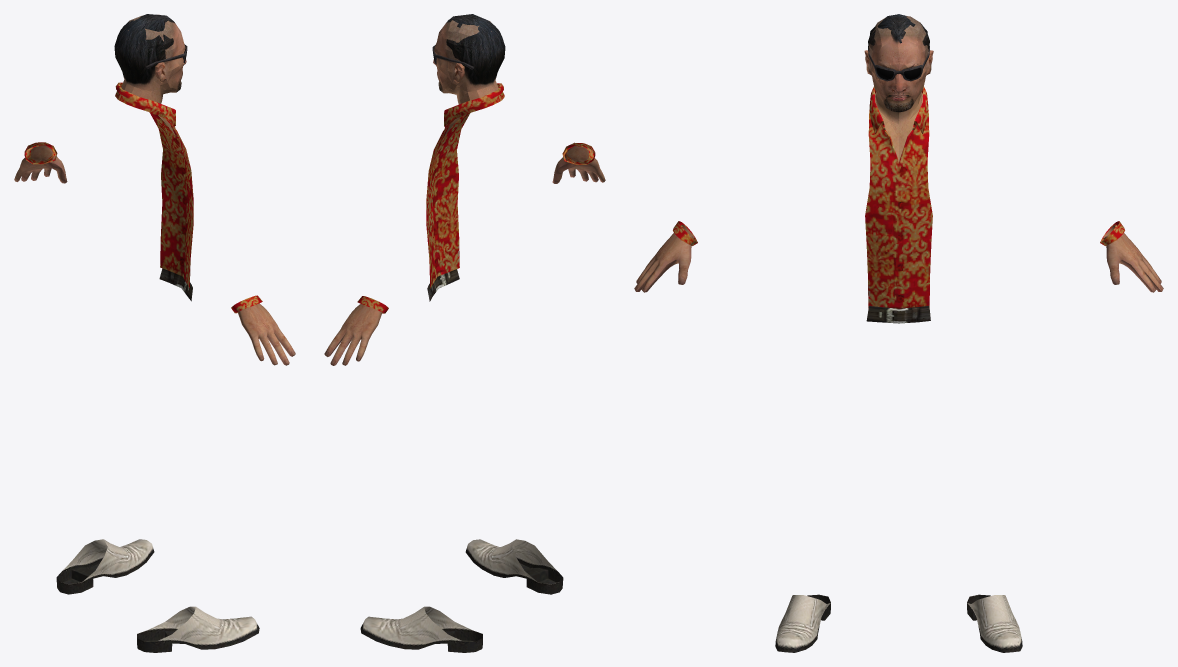
Rendered from yakuzaGangSoldier.FBX.
3 renders of one model, left to right at view 1: azimuth 30°, elevation 25°; view 2: azimuth 150°, elevation 25°; view 3: azimuth 270°, elevation 25°, orthographic. The views are drawn at different scales.
Visible parts, largest first — view 1: CH_MNPCyakuzaGangSoldier; view 2: CH_MNPCyakuzaGangSoldier; view 3: CH_MNPCyakuzaGangSoldier.
Part boxes in pixels (x1=…): CH_MNPCyakuzaGangSoldier: x1=14, y1=14, x2=295, y2=652; CH_MNPCyakuzaGangSoldier: x1=324, y1=14, x2=605, y2=652; CH_MNPCyakuzaGangSoldier: x1=634, y1=14, x2=1163, y2=652.
Size of the model in its own units: 19.01 by 89.62 by 70.12.
